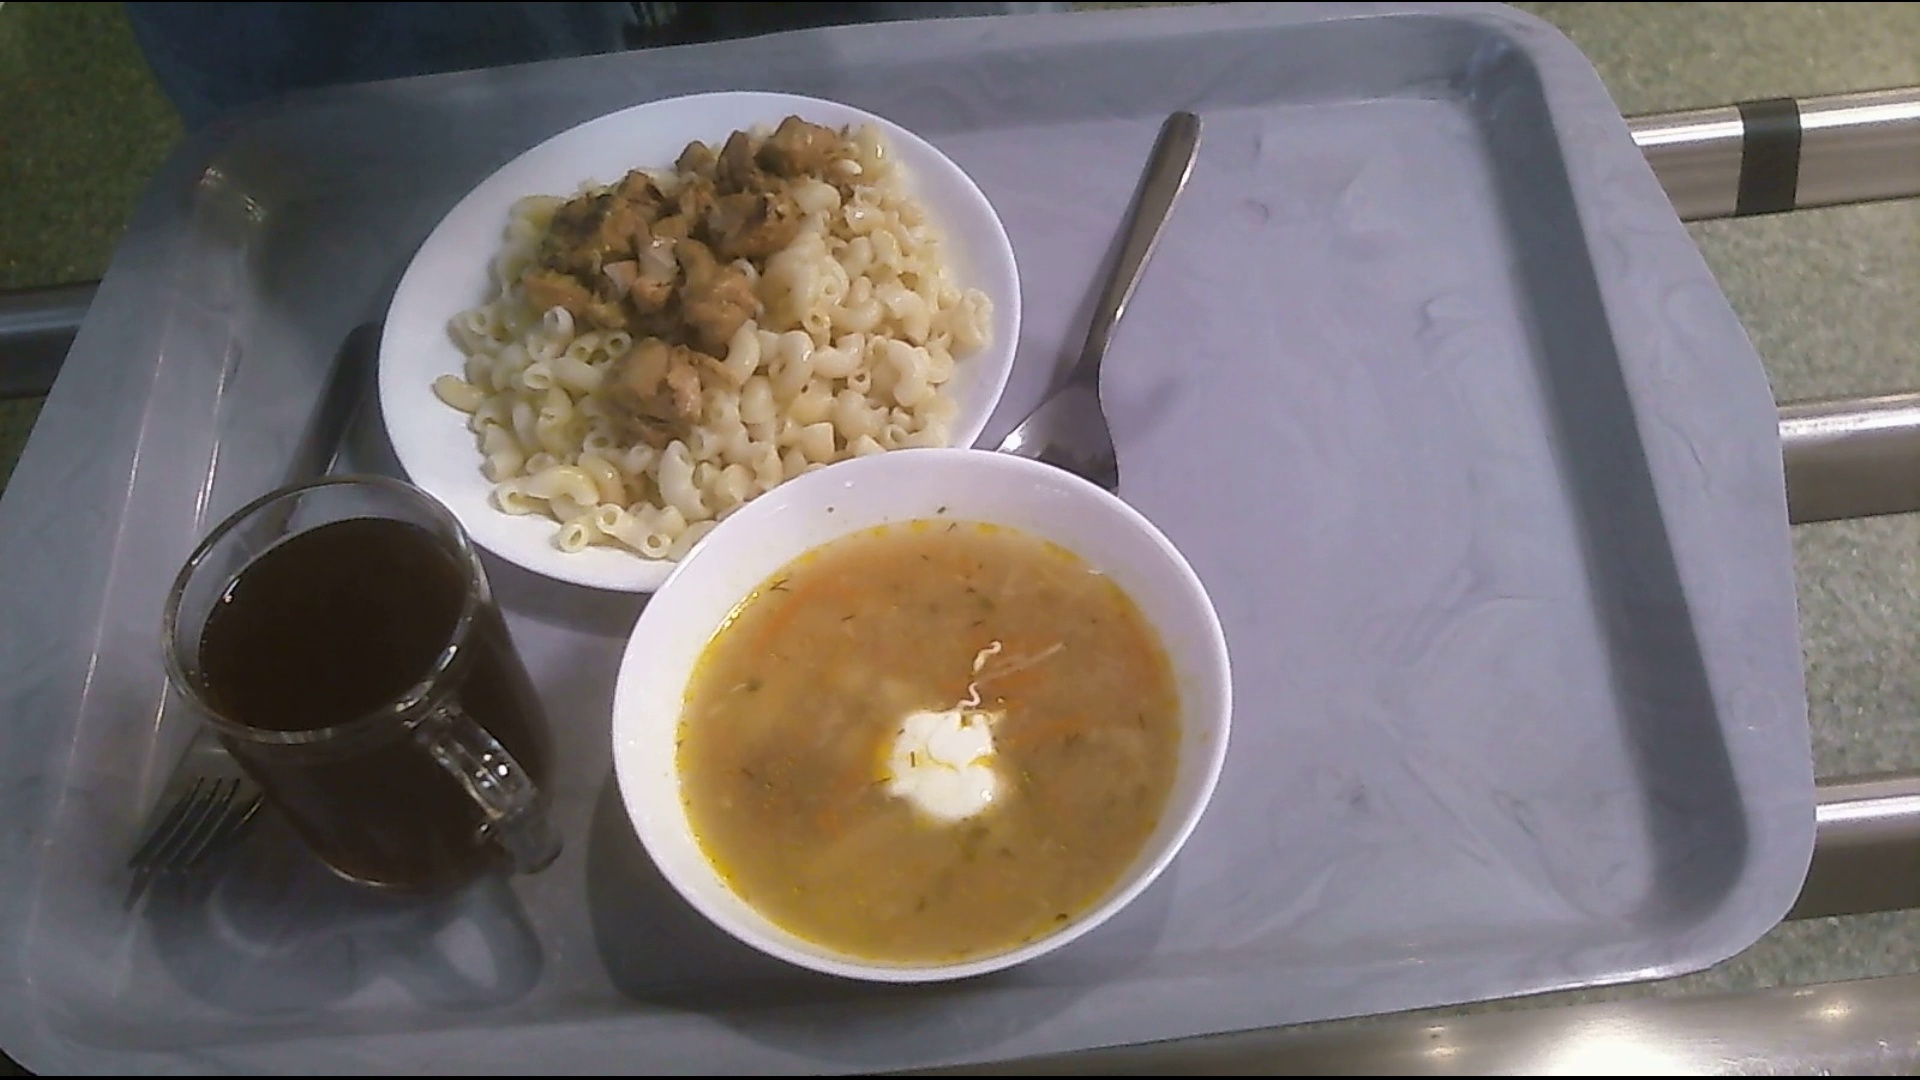bowl: (626, 450, 1240, 989)
cutlery: (133, 322, 394, 889), (996, 112, 1218, 505)
drink: (169, 476, 568, 890)
plate: (378, 127, 1039, 585)
